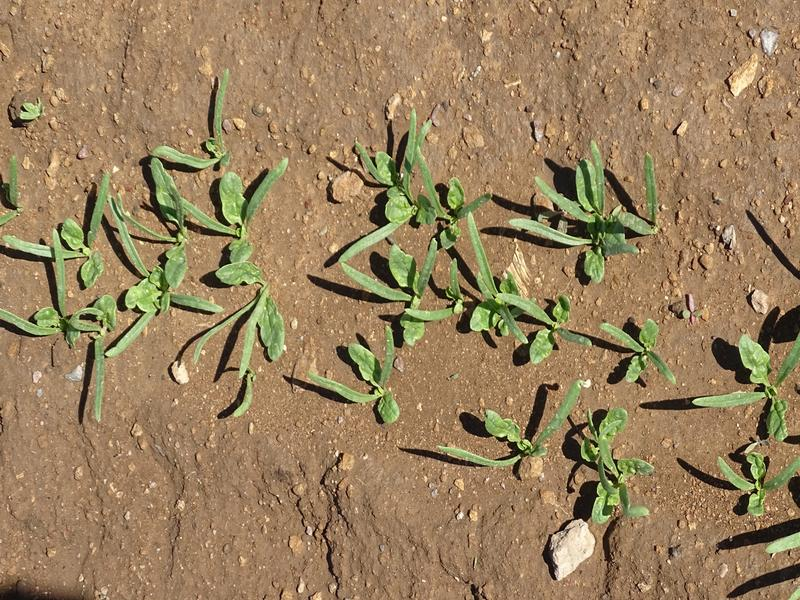Espinaca: (333, 117, 673, 522), (17, 82, 292, 420), (702, 334, 797, 510)
